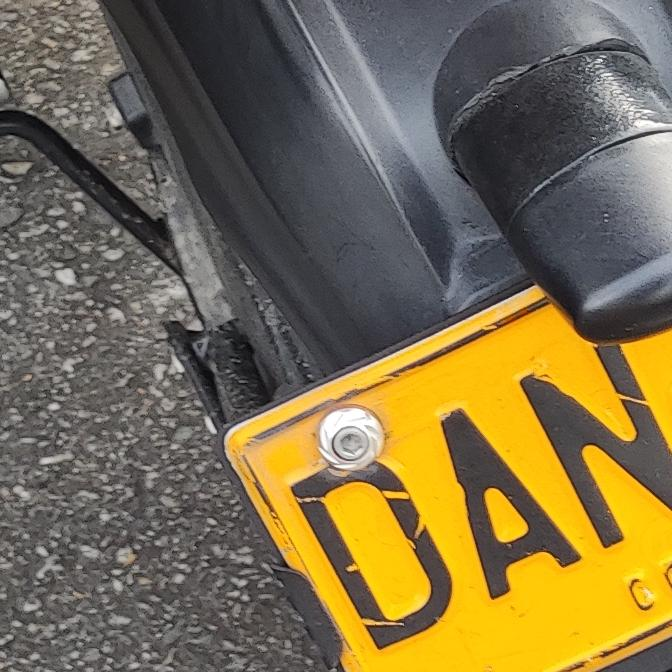plates: (216, 217, 672, 672)
